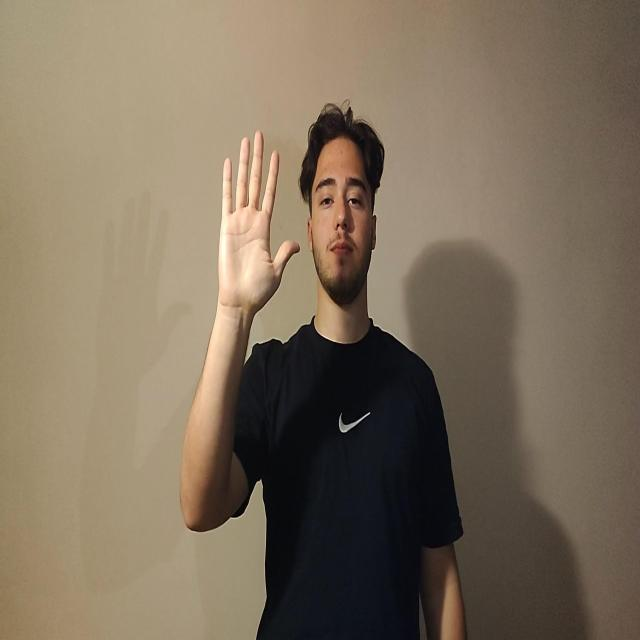hello: (217, 128, 300, 316)
